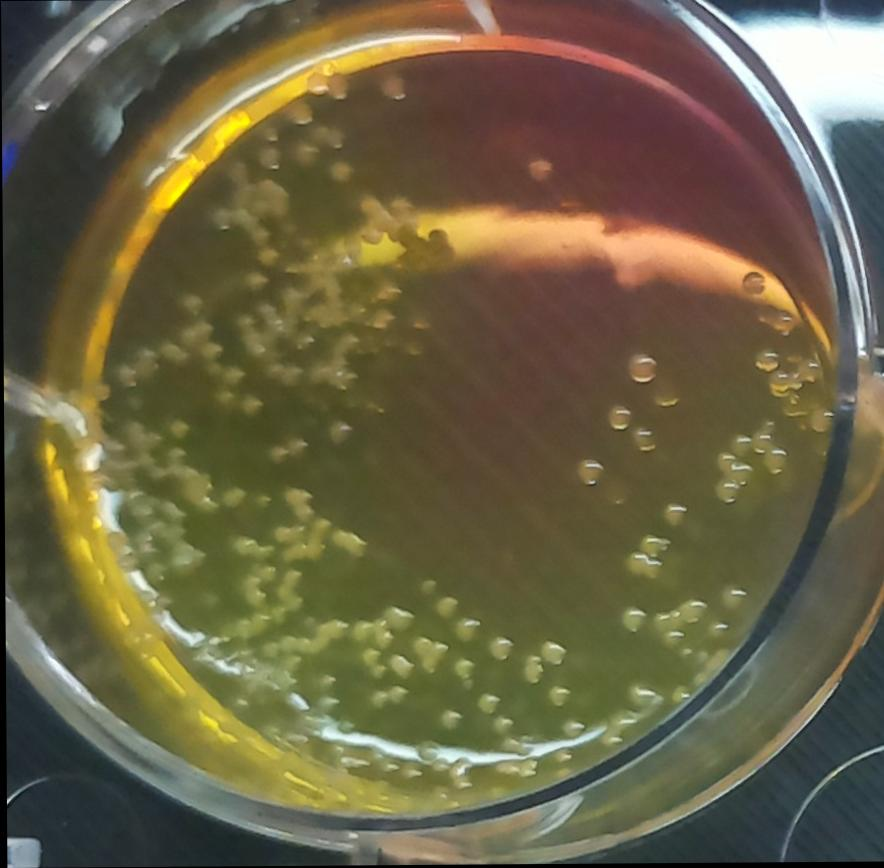vharveyi: (267, 481, 326, 565), (157, 446, 219, 515), (650, 595, 711, 650), (349, 598, 412, 651), (618, 529, 671, 586), (706, 447, 753, 507), (257, 425, 310, 470), (561, 450, 609, 496), (328, 522, 369, 563), (372, 67, 411, 106), (598, 394, 635, 433), (624, 346, 660, 385), (613, 600, 646, 641), (324, 414, 357, 449), (485, 628, 515, 665), (430, 592, 460, 624), (543, 678, 572, 709), (310, 666, 339, 694)
